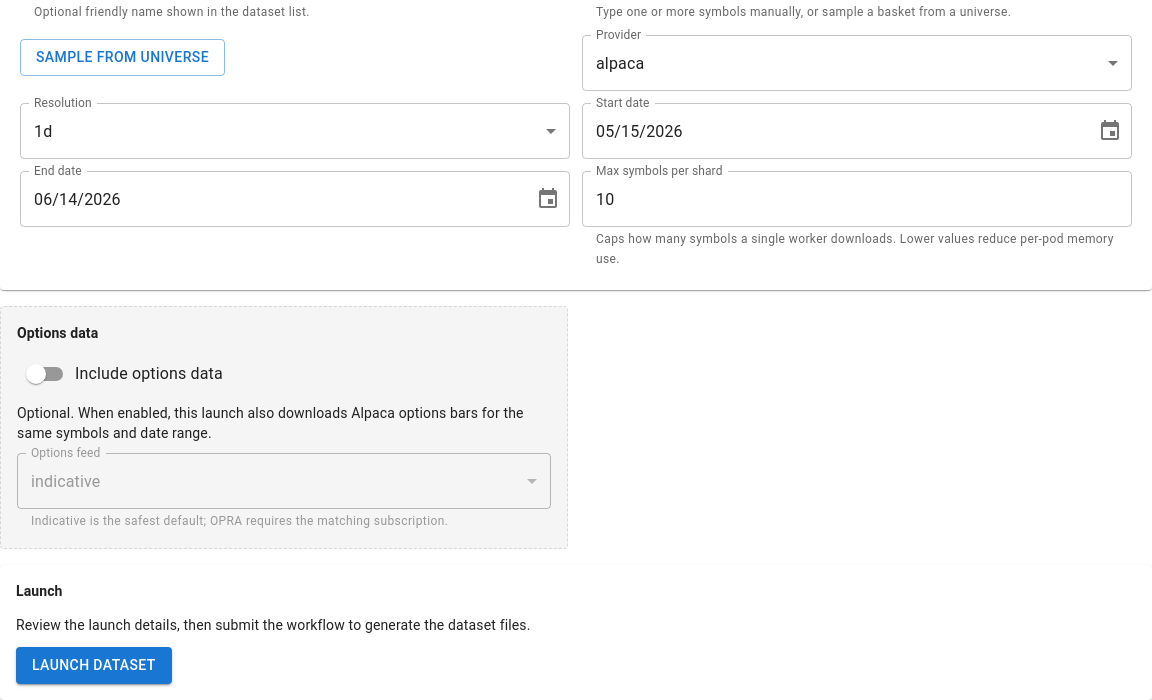
Scenario: DatasetWizardPage › reports launch errors in the result modal
(page scrolled)
Click the button "Launch dataset" at (94, 665), box 16,647 -> 172,684
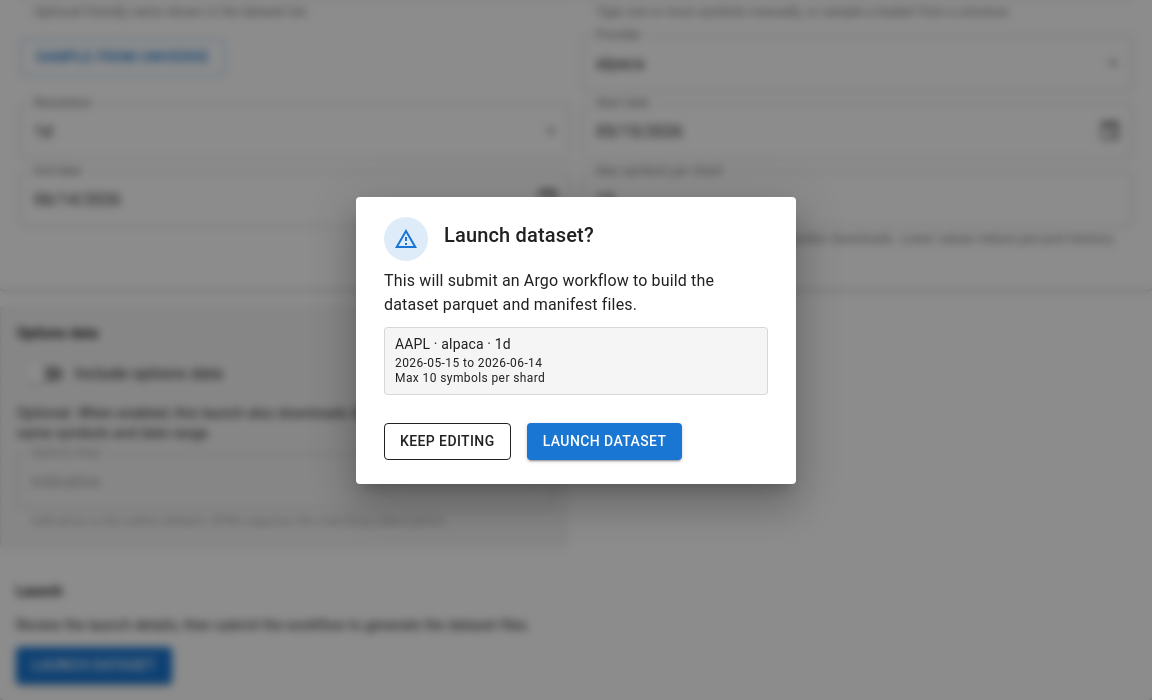
Click the button "Launch dataset" at (605, 441), box 527,423 -> 682,460
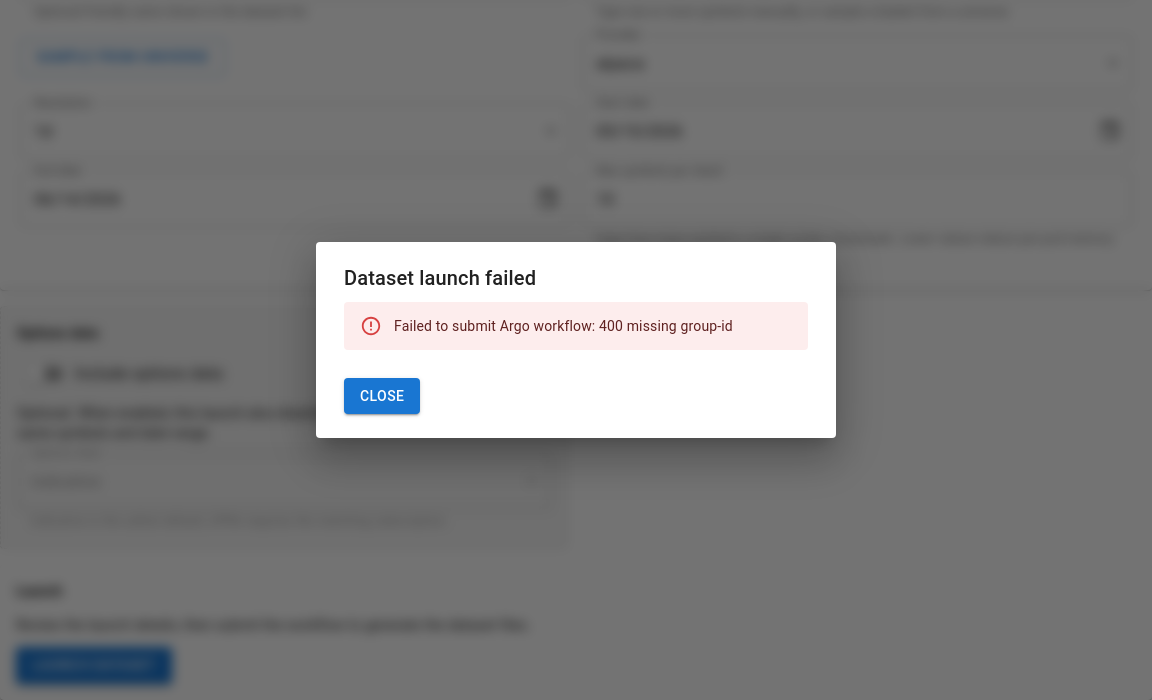
Now the heading "Dataset launch failed" is shown, box 344,266 -> 536,290
Now the text "Failed to submit Argo workflow: 400 missing group-id" is shown, box 394,318 -> 733,334
